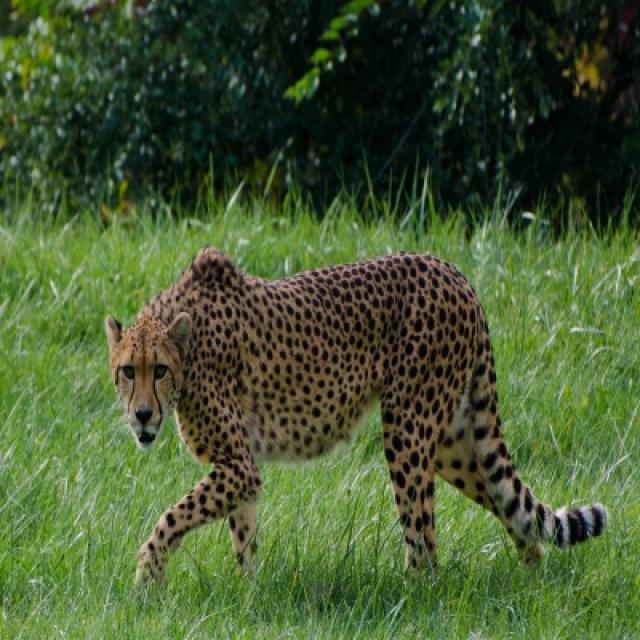Cheetah: (106, 248, 610, 587)
